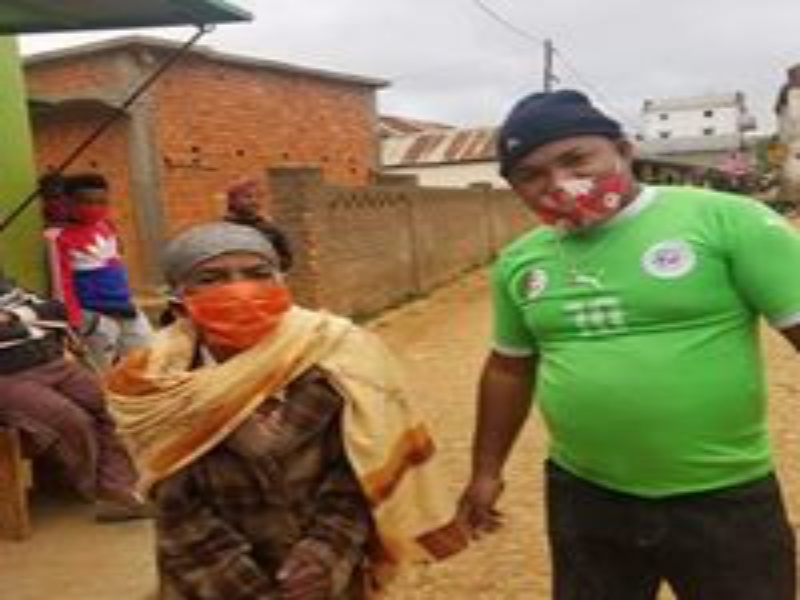ManaoArotava: (482, 86, 653, 241), (145, 221, 308, 359)
